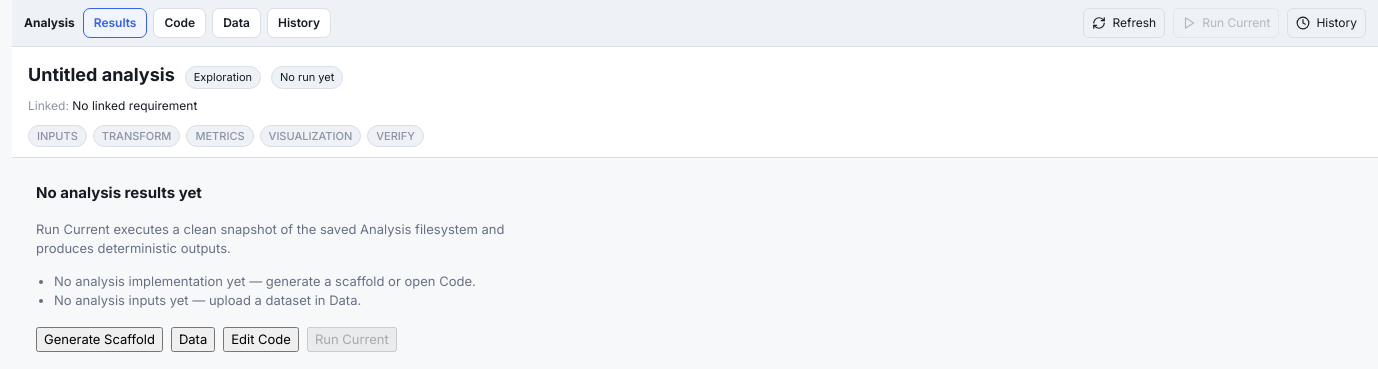
Test case: AnalysisWorkspace › shows controlled unsupported preview for binary content
Click the tab with test id "analysis-mode-code" at (180, 23), box [154,8,206,38]
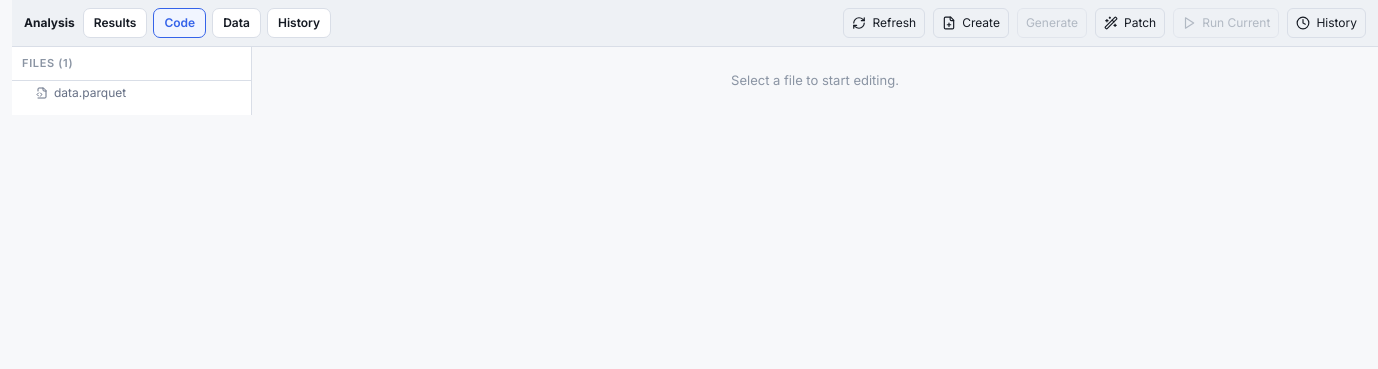
Now the button with test id "analysis-tree-file-data.parquet" is shown
Click the button with test id "analysis-tree-file-data.parquet" at (132, 92), box [12,80,251,104]
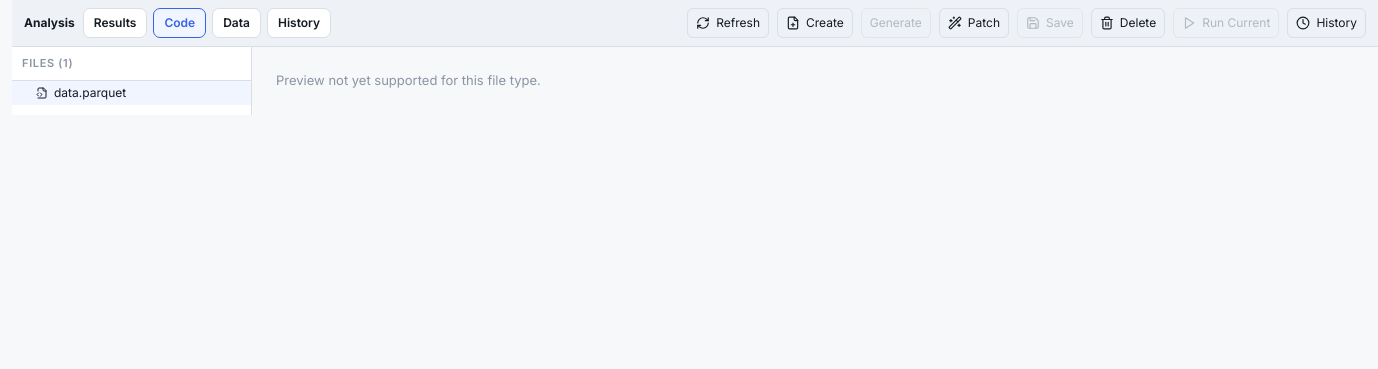
Now the text "Preview not yet supported for this file type." is shown, box [276,72,541,88]
